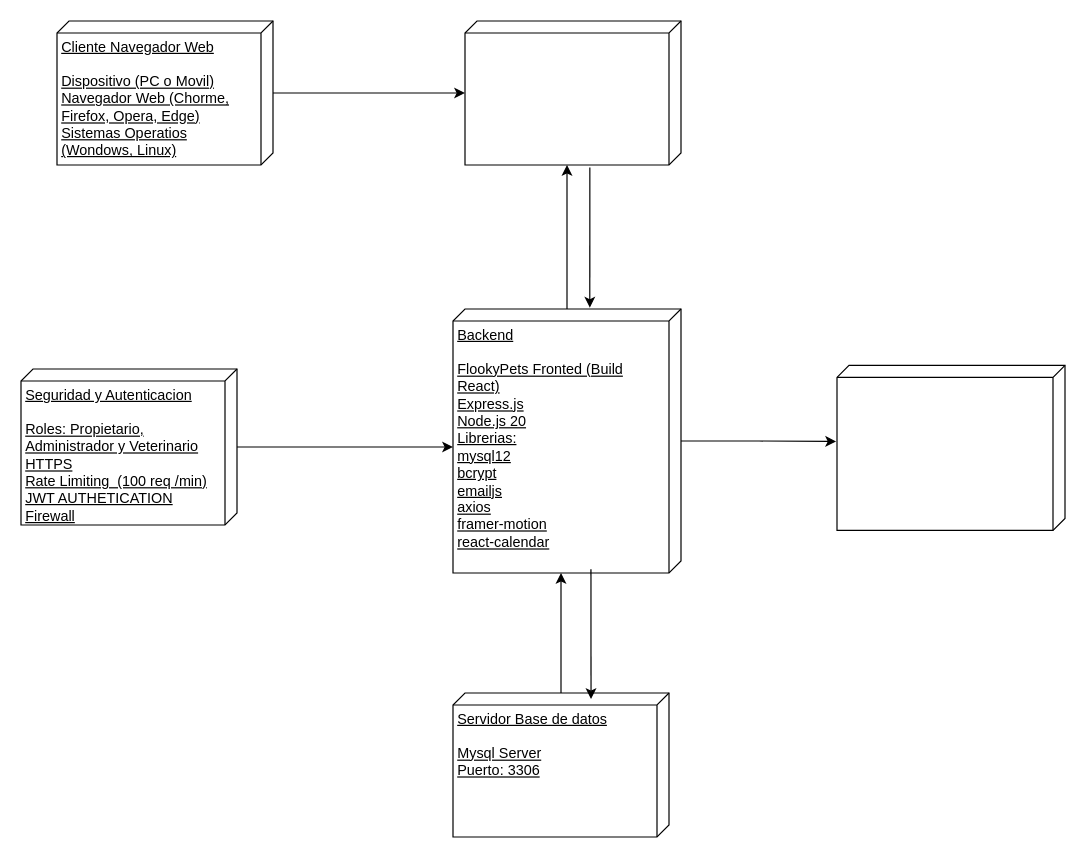
This 1086x858 diagram has some shape labels left out. The centre of each missing label's shape, as x and y in pixels:
Domidio Flooky Pets flookypets.com: (x=572, y=92)
Integraciones Pasarela de pagos API Google Maps: (x=950, y=447)
